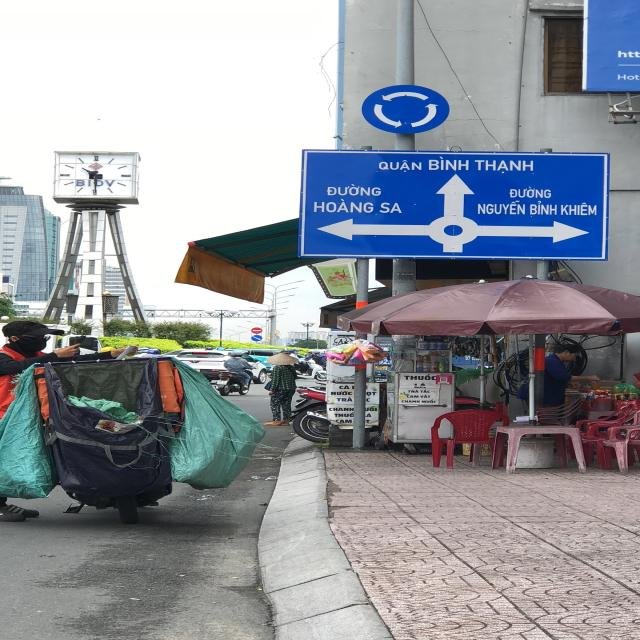Bien bao noi giao nhau chay theo vong xuyen: (358, 82, 452, 138)
